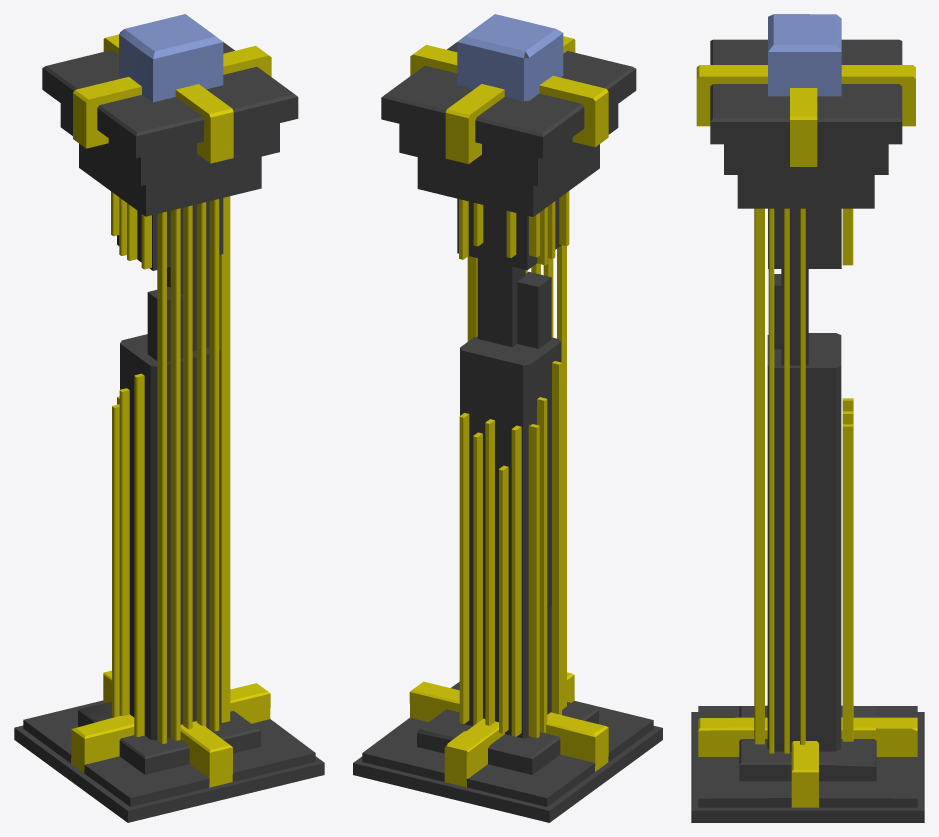
Rendered from temple_pillar ornate M.fbx.
The picture shows the model from 3 angles, left to right: view 1: azimuth 30°, elevation 25°; view 2: azimuth 150°, elevation 25°; view 3: azimuth 270°, elevation 25°; orthographic projection. The views are drawn at different scales.
Visible parts, largest first — view 1: pilier_fin_habille; view 2: pilier_fin_habille; view 3: pilier_fin_habille.
Part boxes in pixels (x1=…): pilier_fin_habille: x1=14, y1=14, x2=324, y2=822; pilier_fin_habille: x1=353, y1=14, x2=662, y2=822; pilier_fin_habille: x1=691, y1=14, x2=924, y2=822.
Bounding box in the file's own units: 37.01 × 130 × 37.01.
